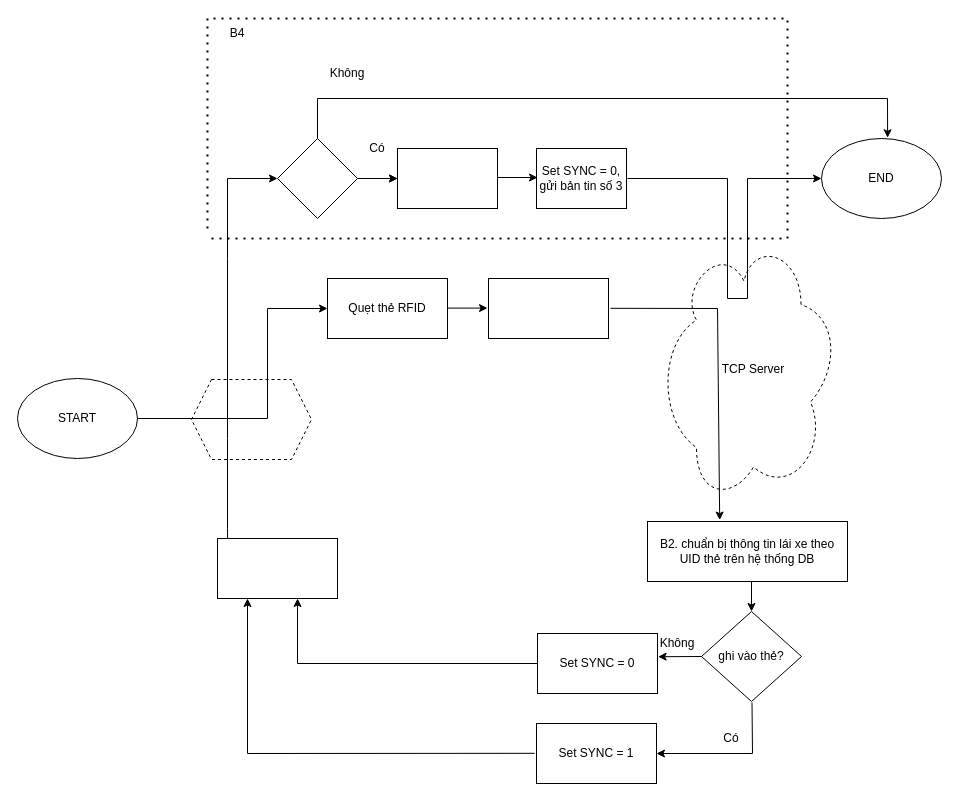
This 959x801 diagram has some shape labels left out. The shapes that lost their labels are listed below. From the top down, each one's centre as x and y in pixels, then its label:
the point at 317,178: Check sync
the point at 447,178: Ghi xuống thẻ
the point at 548,308: B1. Gửi bản tin đăng nhập số 3
the point at 251,419: Thiết bị
the point at 277,568: B3. Đồng bộ TT lái xe xuống thiết bị
